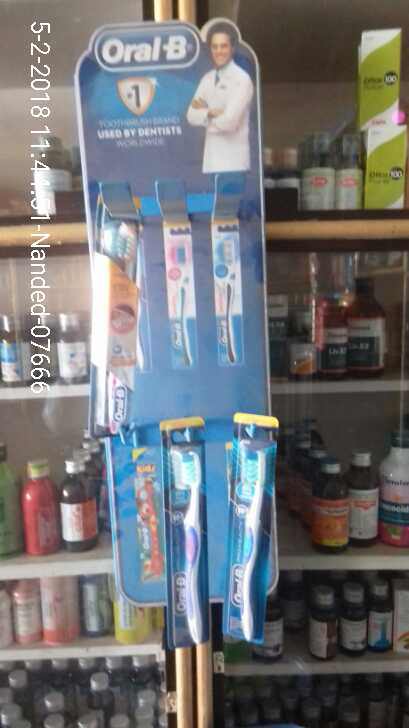oralb: (92, 211, 140, 429), (161, 437, 209, 649), (222, 432, 265, 651)
